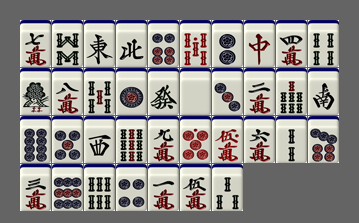0m: (212, 116, 243, 163)
0p: (180, 116, 211, 163)
0s: (180, 20, 211, 67)
1m: (148, 164, 179, 211)
1p: (116, 68, 147, 115)
1s: (20, 68, 51, 115)
1z: (84, 20, 115, 67)
2m: (244, 68, 275, 115)
2p: (212, 20, 243, 67)
2s: (276, 116, 307, 163)
2z: (308, 68, 339, 115)
3m: (20, 164, 51, 211)
3p: (212, 68, 243, 115)
3s: (212, 164, 243, 211)
3z: (84, 116, 115, 163)
4m: (276, 20, 307, 67)
4p: (116, 164, 147, 211)
4s: (308, 20, 339, 67)
4z: (116, 20, 147, 67)
5m: (180, 164, 211, 211)
5p: (52, 116, 83, 163)
5s: (84, 68, 115, 115)
5z: (180, 68, 211, 115)
6m: (244, 116, 275, 163)
6p: (148, 20, 179, 67)
6s: (84, 164, 115, 211)
6z: (148, 68, 179, 115)
7m: (20, 20, 51, 67)
7p: (308, 116, 339, 163)
7s: (276, 68, 307, 115)
7z: (244, 20, 275, 67)
8m: (52, 68, 83, 115)
8p: (20, 116, 51, 163)
8s: (52, 20, 83, 67)
9m: (148, 116, 179, 163)
9p: (52, 164, 83, 211)
9s: (116, 116, 147, 163)
